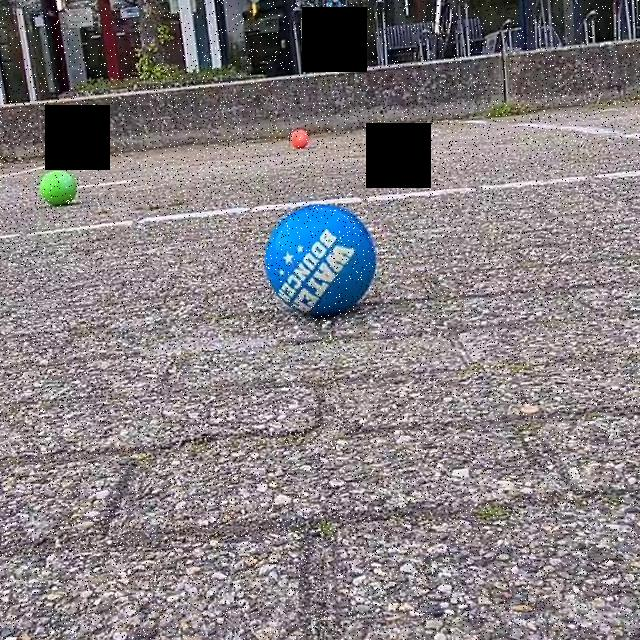ball: (35, 167, 81, 210), (286, 124, 312, 152)
